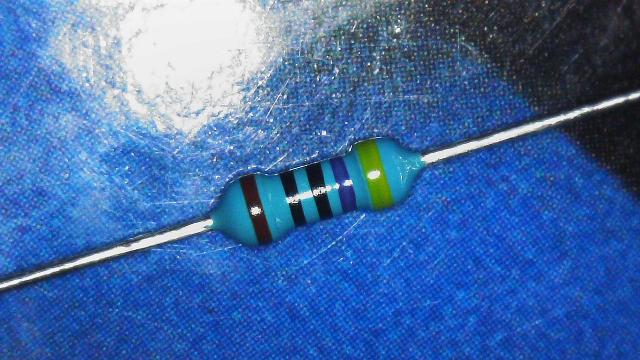black: (306, 162, 332, 219), (280, 170, 306, 226)
brown: (240, 175, 272, 243)
resistor: (193, 137, 433, 250)
violet: (330, 156, 358, 212)
yellow: (356, 138, 394, 210)
